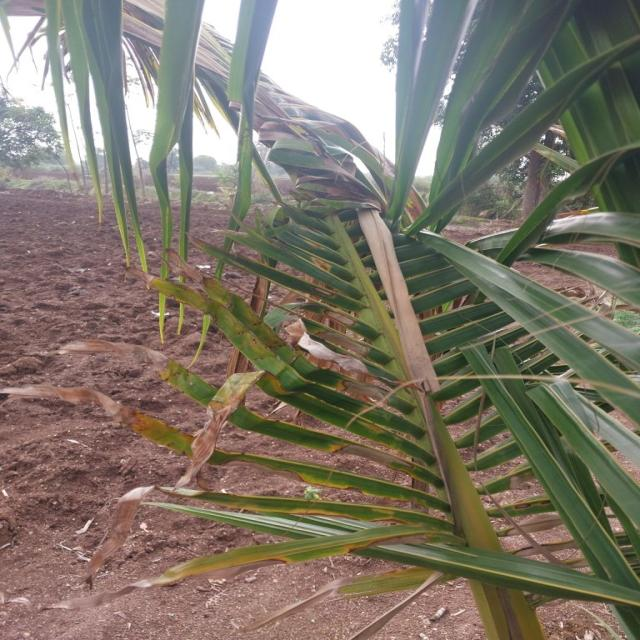leaf rot: (34, 183, 388, 575)
